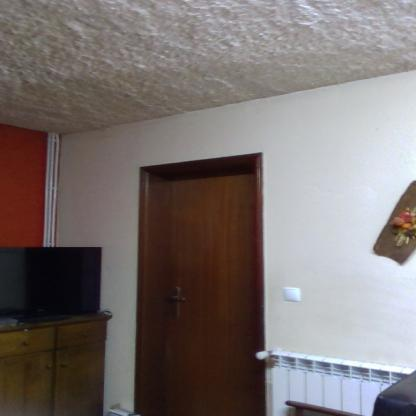door: (150, 177, 260, 416)
lever: (166, 296, 188, 305)
